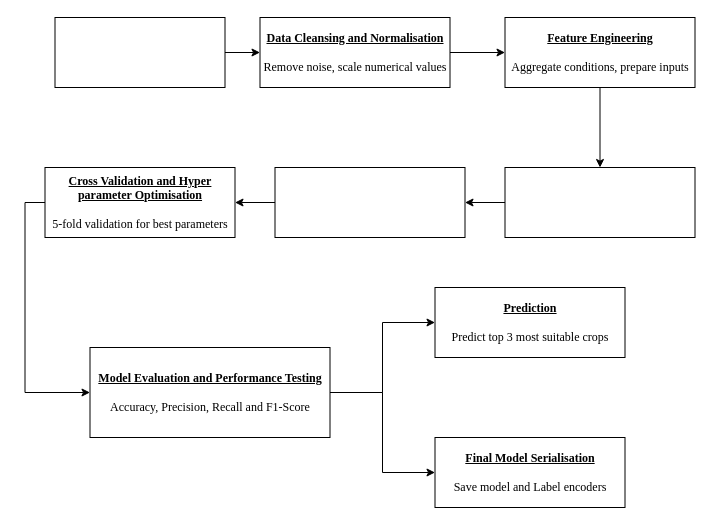
This 712x525 diagram has some shape labels left out. The box of each missing label's shape, as (x1, y1, x2, y2) in pixels:
Multiclass Classifier Training 22-crop classification using tuned model: (274, 166, 465, 238)
Raw Agronomic Dataset 22 target crops, 7 input features: (54, 16, 225, 88)
Simulated Dropuout Training Random masking of input features: (504, 166, 695, 238)
